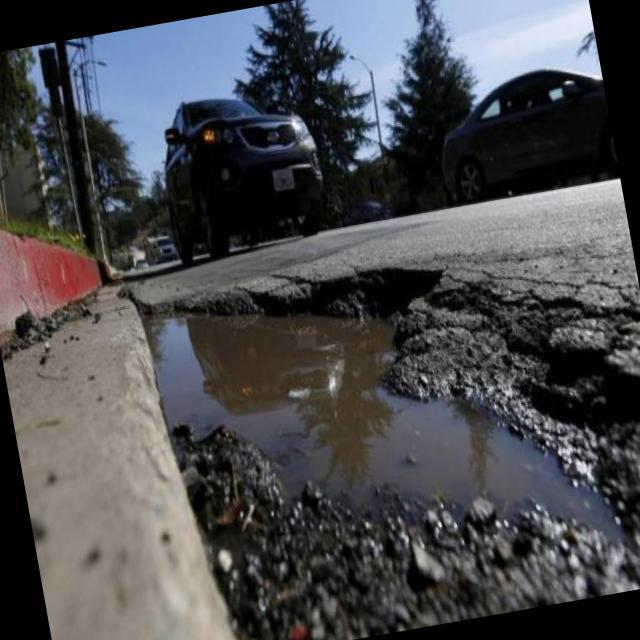Pothole: (143, 271, 640, 640)
